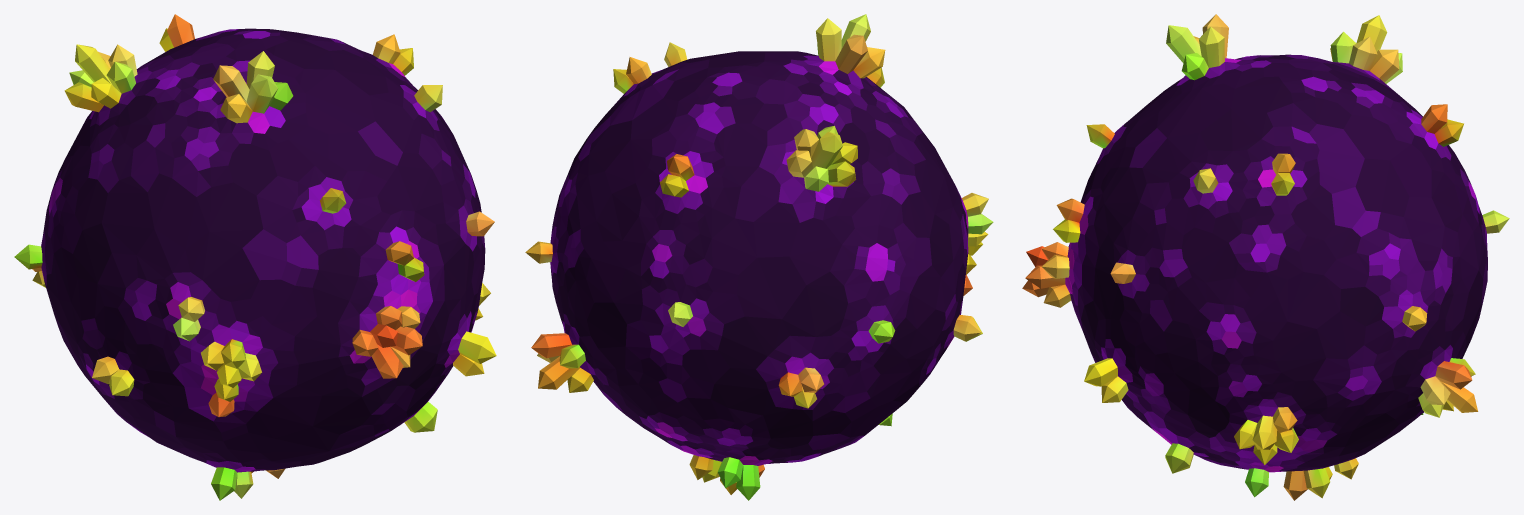
Rendered from Crystal_planet_9.fbx.
3 views of the same model, side by side, from view 1: azimuth 30°, elevation 25°; view 2: azimuth 150°, elevation 25°; view 3: azimuth 270°, elevation 25° (orthographic). The views are drawn at different scales.
Visible parts, largest first — view 1: file6; view 2: file6; view 3: file6.
Part boxes in pixels (left/top/right/bottom): file6: left=14, top=14, right=496, bottom=500; file6: left=525, top=14, right=993, bottom=500; file6: left=1022, top=14, right=1509, bottom=500.
Size of the model in its own units: 2.21 by 2.37 by 2.34.
